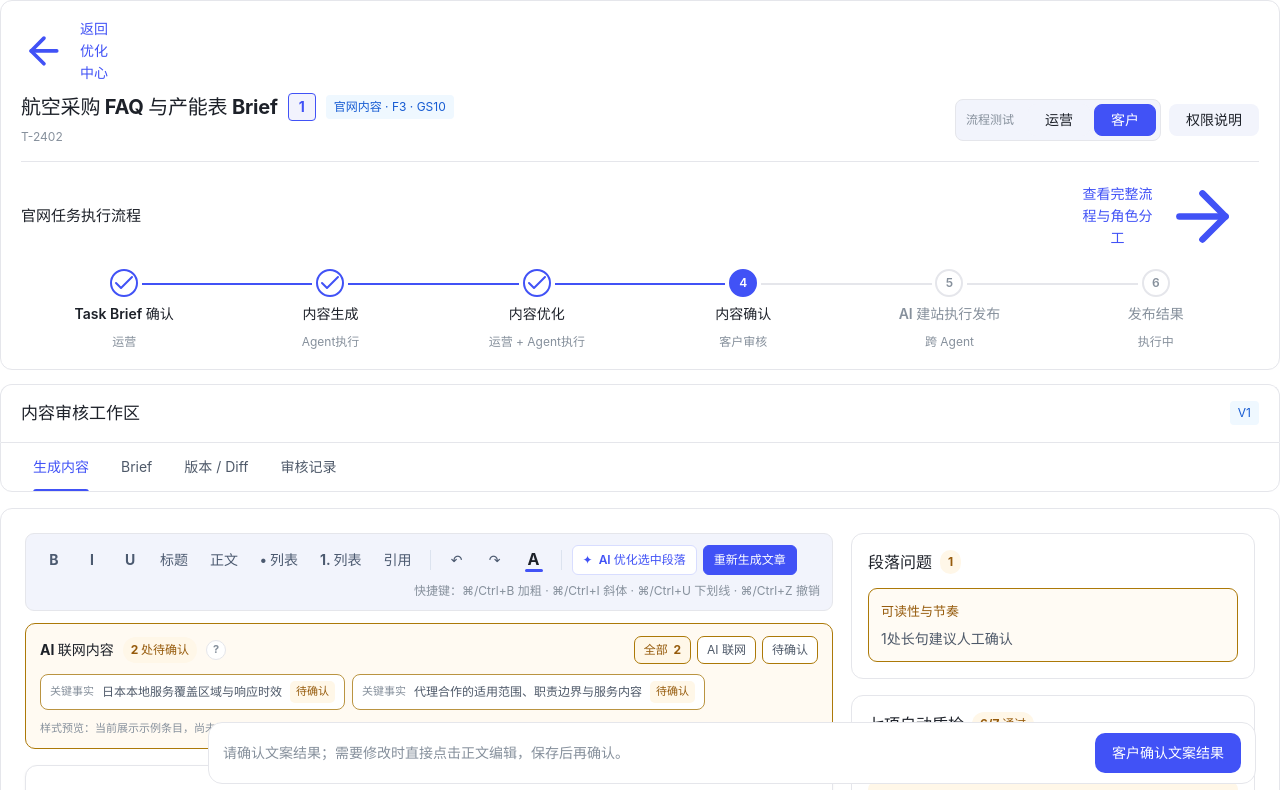
Test: task workspace task confirmation › moves customer final approval directly to the completed sixth step
The width and height of the screenshot is (1280, 790).
Click the button "客户确认文案结果" at (1168, 753), box [1095, 733, 1241, 773]
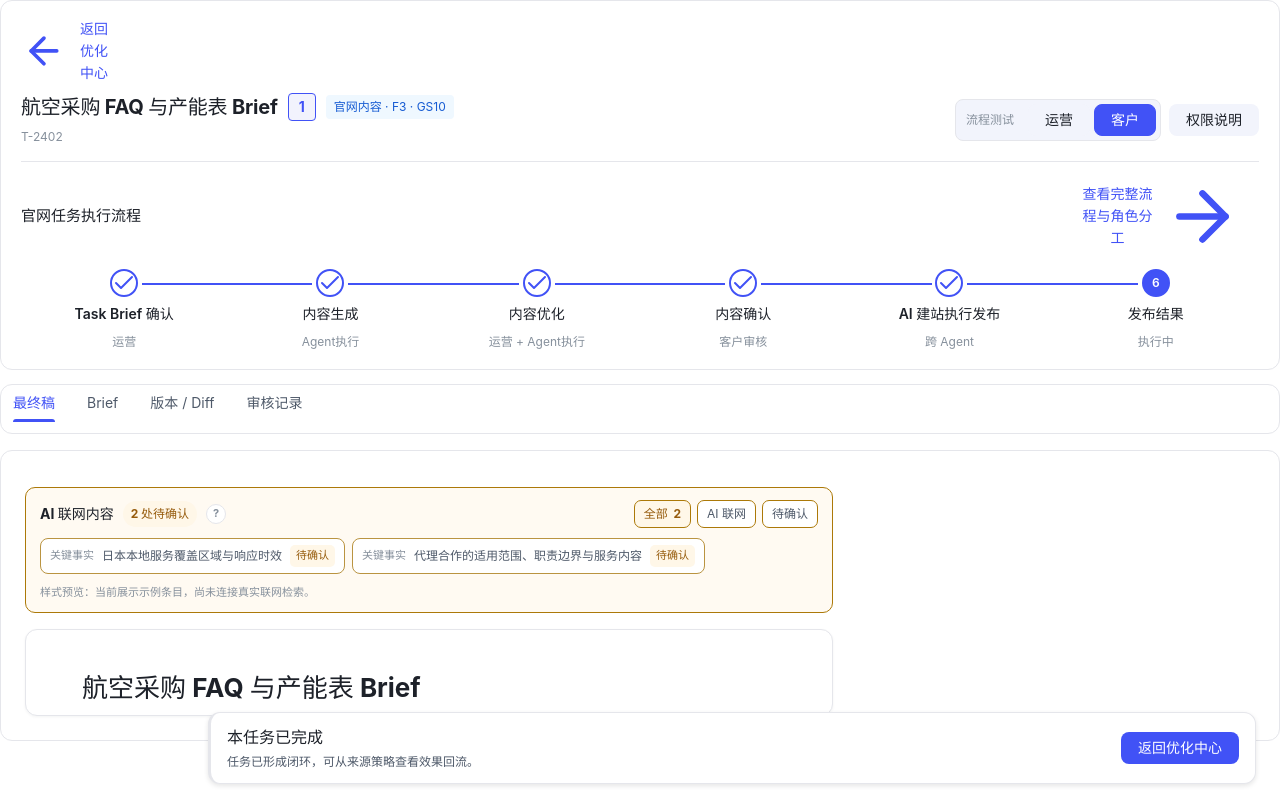
Now the element with class "tw-actionbar" shows "本任务已完成", box [227, 727, 323, 747]
Now the button with test id "return-optimization" reads "返回优化中心", box [1121, 732, 1239, 764]
